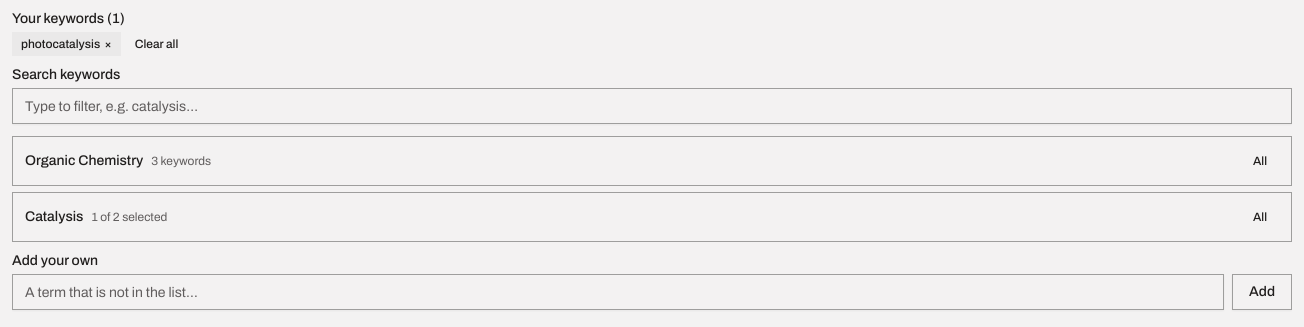
Scenario: KeywordPicker › removes a keyword by clicking its chip
What coordinates should you click on to do the following:
click the text "photocatalysis"
I would click on:
 (66, 44)
Its box is [12,32,121,56].
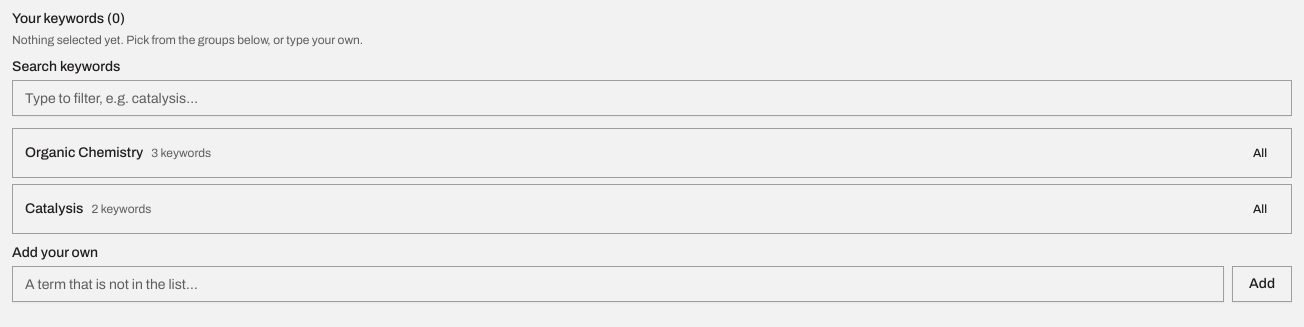
Expected: the element with test id "keyword-chips" is gone
